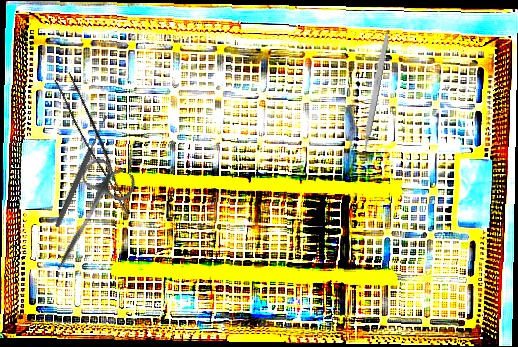Iris Scissors: (36, 153, 140, 284)
Scalpel Handle: (359, 28, 392, 152)
Surgical Spoon: (53, 114, 110, 229)
Tissue Forceps: (50, 71, 146, 216)
